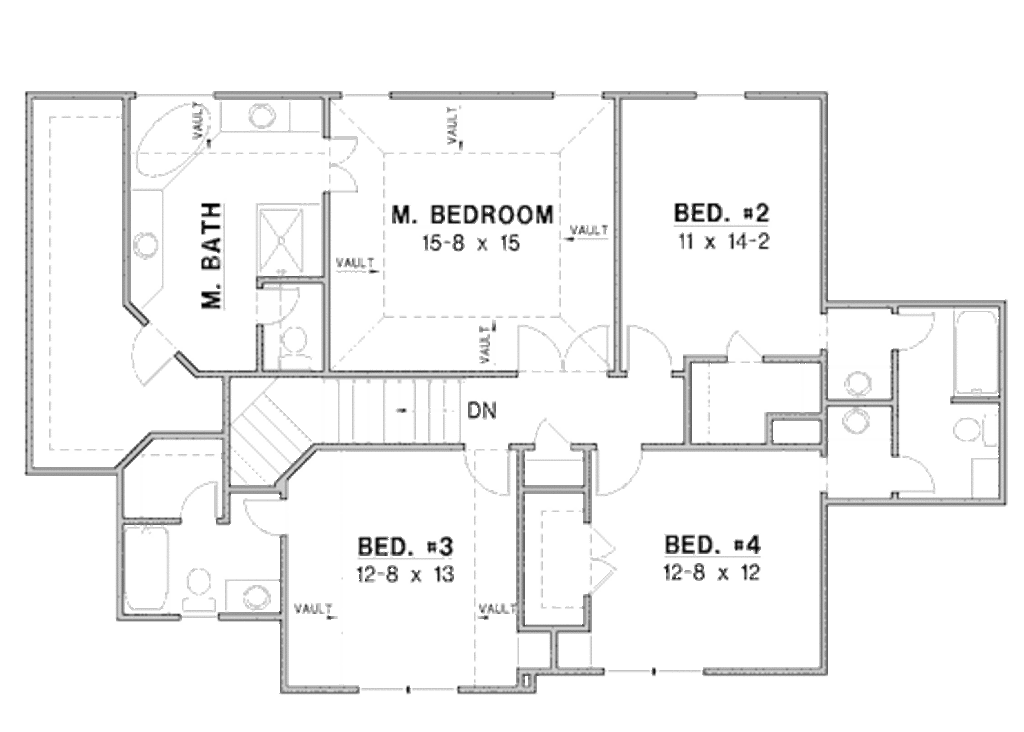door: (512, 319, 613, 378), (313, 128, 383, 198), (590, 441, 657, 498), (622, 324, 692, 377), (130, 315, 178, 391), (226, 494, 289, 545), (884, 302, 940, 355), (176, 480, 234, 530), (888, 449, 941, 495), (253, 286, 305, 326), (721, 327, 761, 361)
large_sink: (172, 556, 217, 621), (949, 406, 998, 451)
small_sink: (123, 199, 166, 298), (826, 403, 890, 447), (825, 356, 883, 404), (228, 582, 281, 622), (232, 101, 287, 137)
stairs: (220, 377, 508, 493)
tub: (945, 306, 1006, 398), (121, 528, 167, 613)
window: (353, 679, 478, 695), (337, 86, 388, 106), (686, 89, 748, 103), (555, 88, 599, 102)
